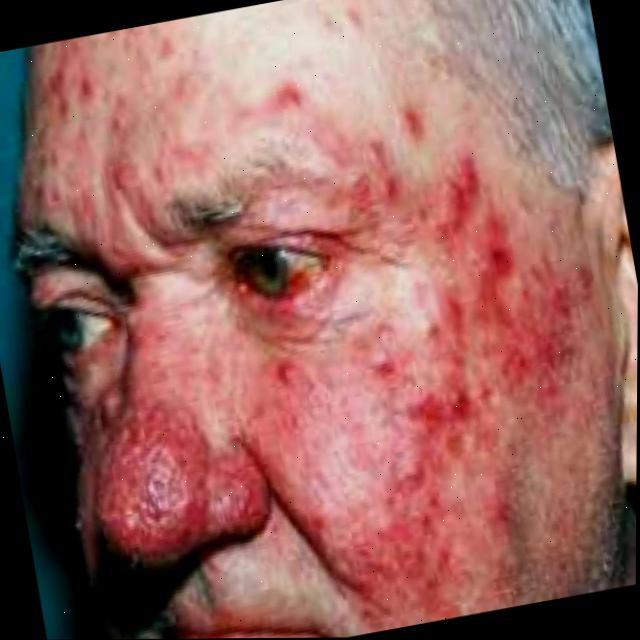Rosacea: (265, 170, 628, 637), (6, 0, 395, 259), (69, 383, 252, 542)
